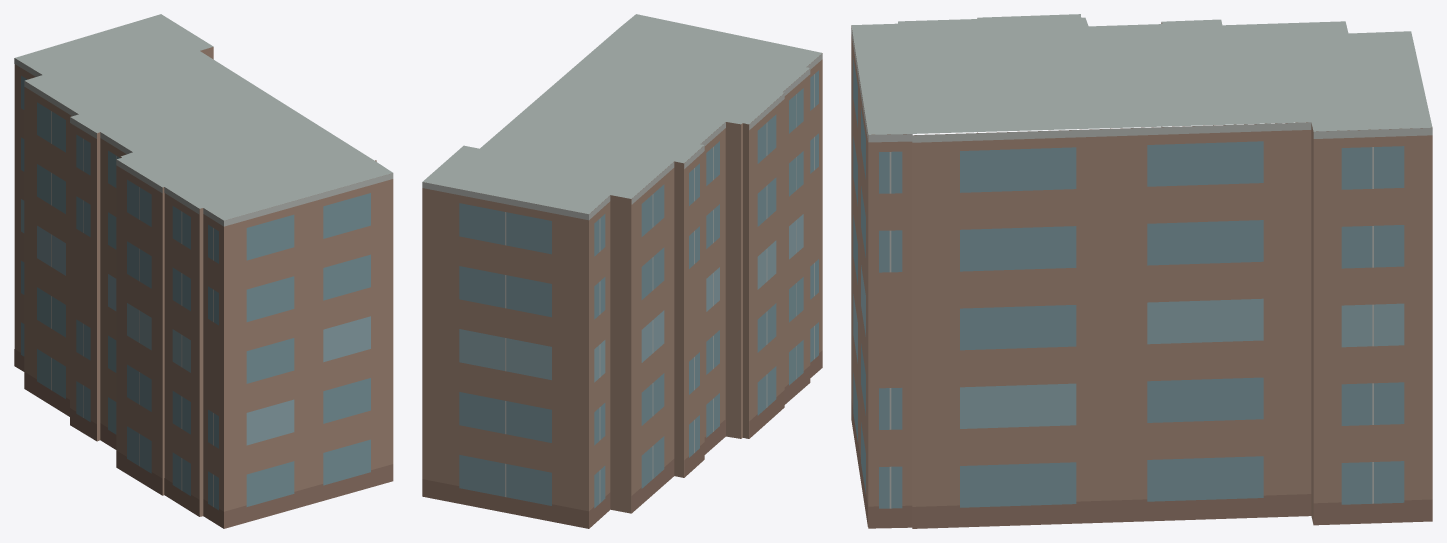
Rendered from survey-upis-32670689.glb.
The picture shows the model from 3 angles, left to right: view 1: azimuth 30°, elevation 25°; view 2: azimuth 150°, elevation 25°; view 3: azimuth 270°, elevation 25°; orthographic projection. The views are drawn at different scales.
Parts seen in each view (by area): view 1: survey-upis-32670689.tmp; view 2: survey-upis-32670689.tmp; view 3: survey-upis-32670689.tmp.
Boxes of the visible parts, x1,y1,x2,y2 form: survey-upis-32670689.tmp: [14, 14, 393, 528]; survey-upis-32670689.tmp: [422, 14, 822, 528]; survey-upis-32670689.tmp: [851, 14, 1432, 528].
Bounding box in the file's own units: 8.36 × 12.65 × 16.94.
